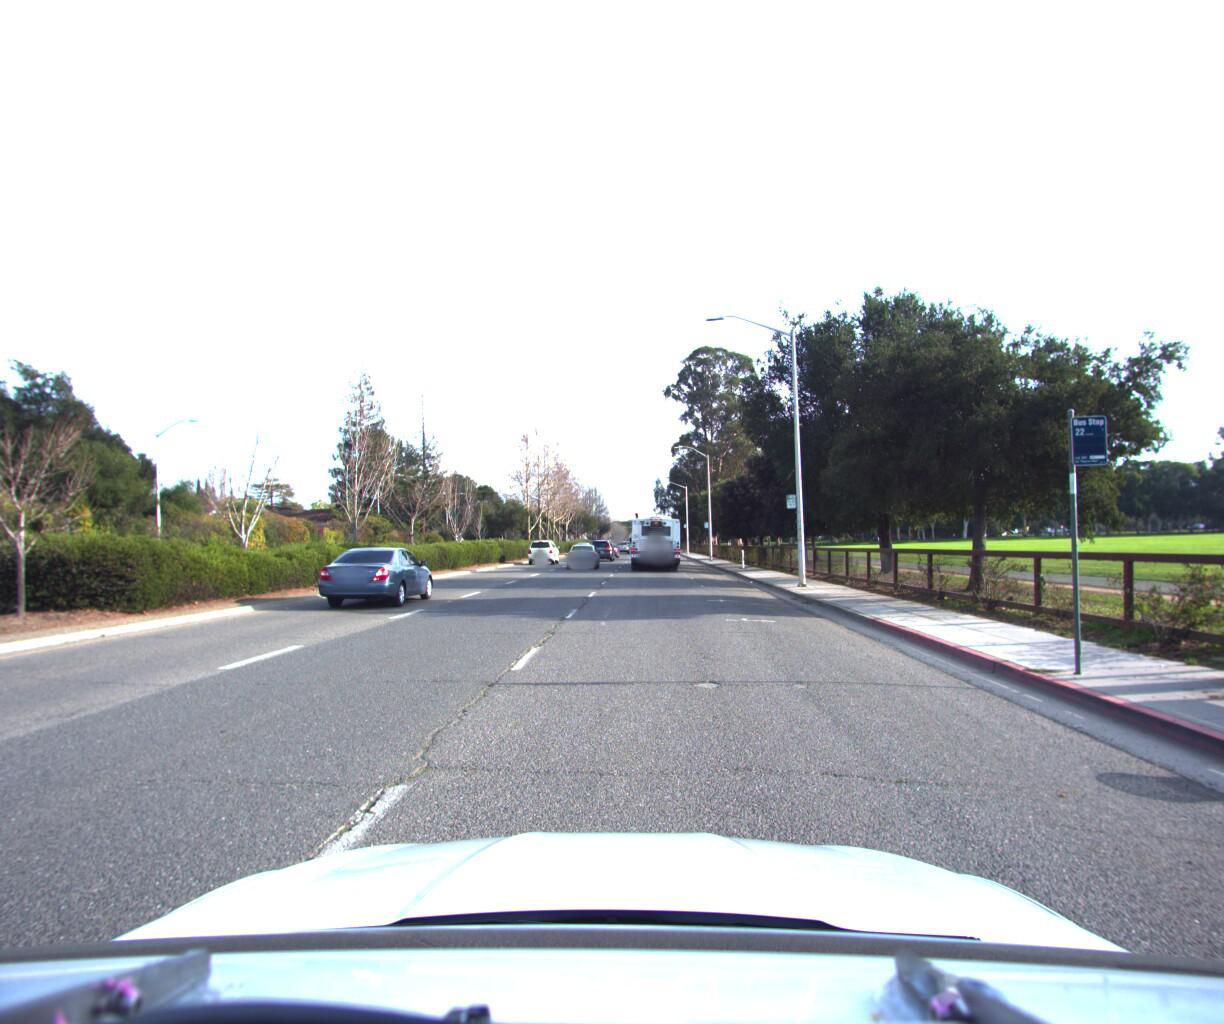bus: (625, 505, 683, 568)
car: (313, 539, 439, 613), (563, 536, 600, 564), (528, 535, 561, 561), (593, 532, 619, 555)
